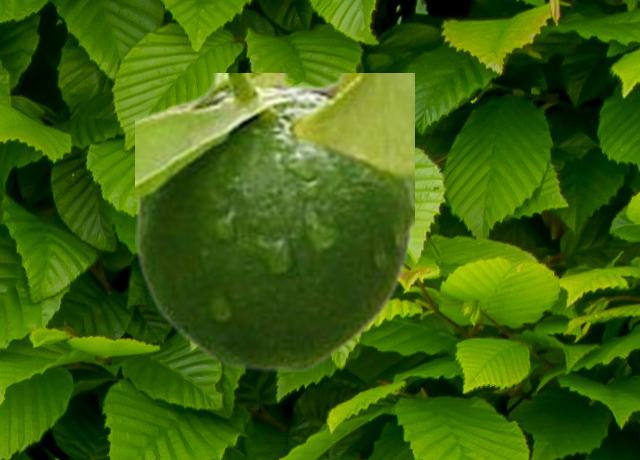dalandan: (135, 73, 413, 370)
